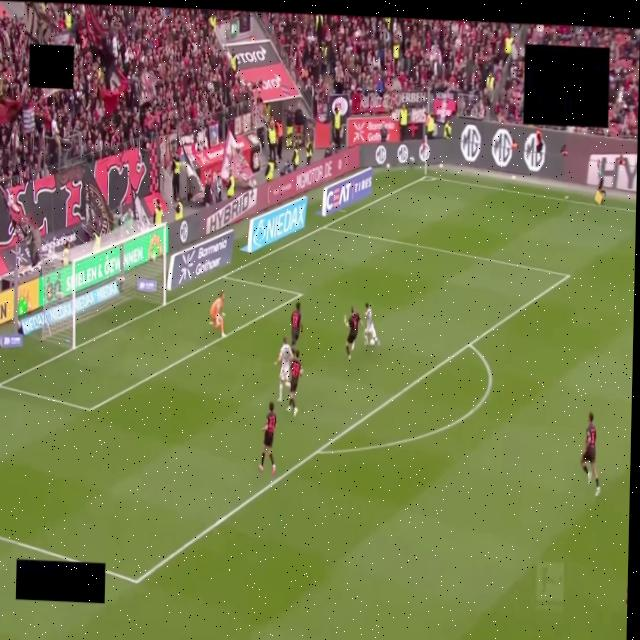ball: (370, 339, 375, 346)
player: (581, 413, 600, 496), (259, 402, 276, 476), (275, 337, 292, 402), (287, 349, 302, 416), (344, 307, 360, 359), (210, 291, 225, 337), (364, 304, 380, 346), (291, 302, 302, 346)
